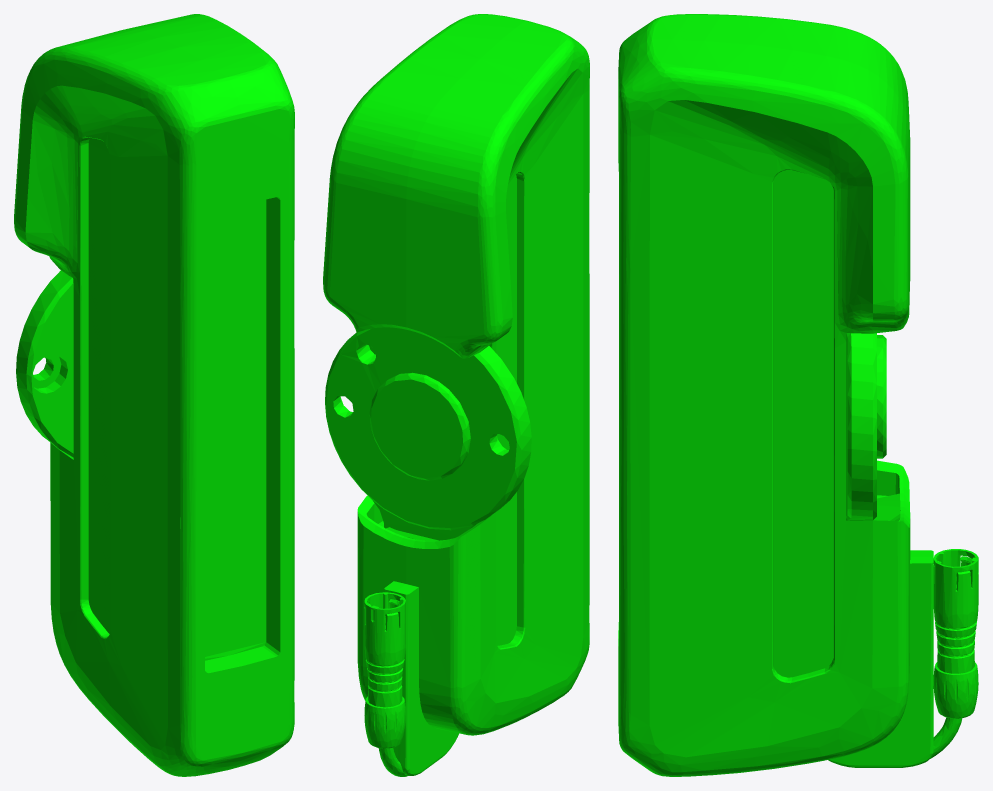
Rendered from hand_vis.obj.
3 views of the same model, side by side, from view 1: azimuth 30°, elevation 25°; view 2: azimuth 150°, elevation 25°; view 3: azimuth 270°, elevation 25° (orthographic). The views are drawn at different scales.
Parts seen in each view (by area): view 1: Hand_Vis; view 2: Hand_Vis; view 3: Hand_Vis.
Part boxes in pixels (<box>): Hand_Vis: <box>14,14,294,776</box>; Hand_Vis: <box>323,14,589,776</box>; Hand_Vis: <box>618,14,978,776</box>.
Size of the model in its own units: 0.063 by 0.2045 by 0.0919.
